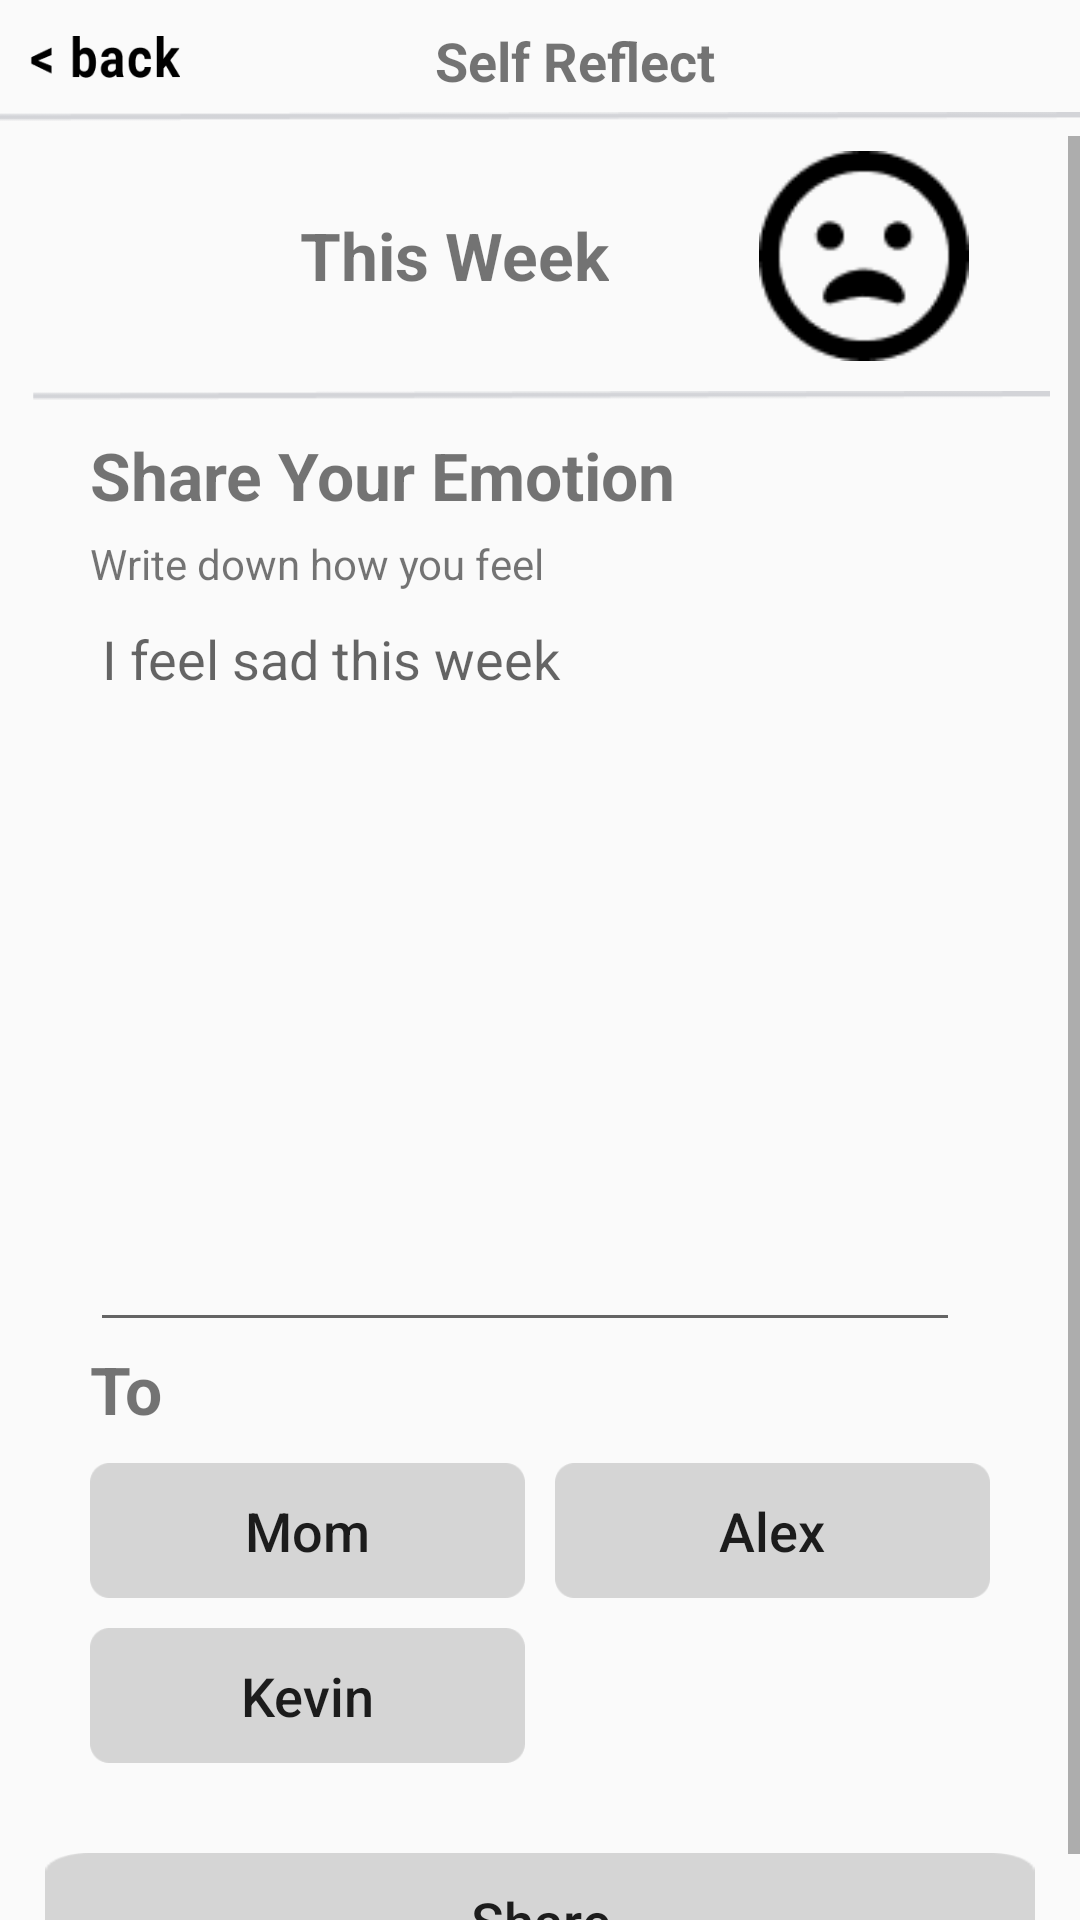

Named icons in this screenshot (1080w x 1920h) and their centers, (x=x, y=y):
sad: (x=864, y=256)
